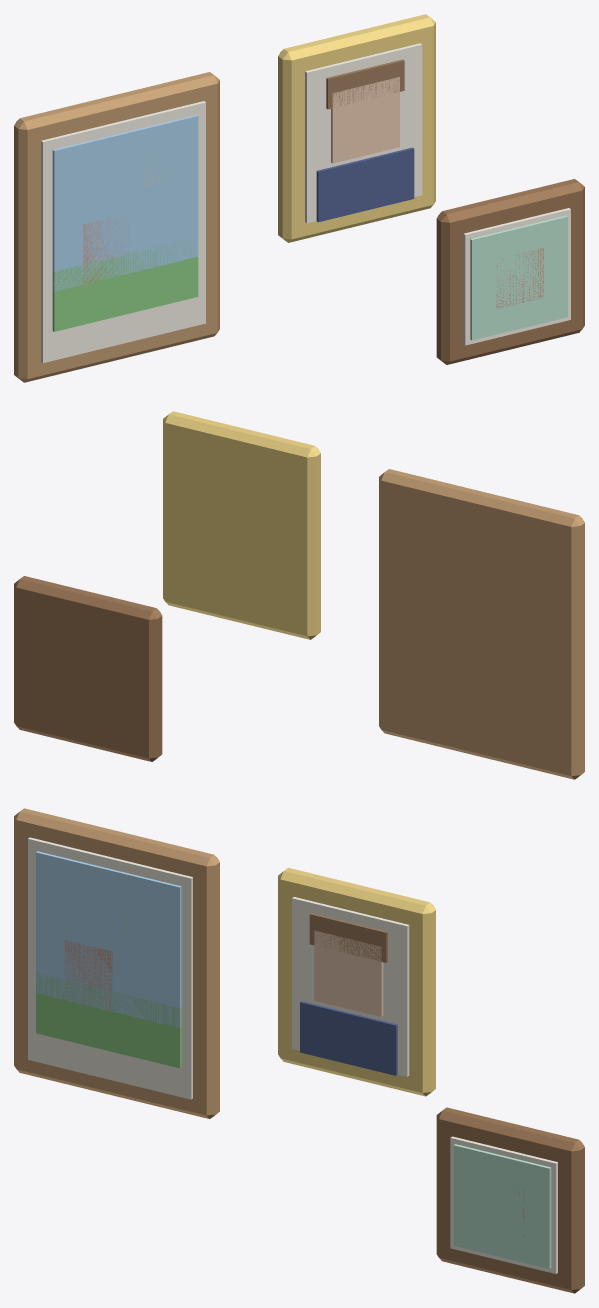
The model's file is prop_wall_frames_01.glb.
3 views of the same model, one above another, from view 1: azimuth 30°, elevation 25°; view 2: azimuth 150°, elevation 25°; view 3: azimuth 330°, elevation 25° (orthographic).
Visible parts, largest first — view 1: prop_wall_frames_01_body; view 2: prop_wall_frames_01_body; view 3: prop_wall_frames_01_body.
Part boxes in pixels (x1,y1,x2,y2): prop_wall_frames_01_body: (14,14,584,382); prop_wall_frames_01_body: (14,411,584,779); prop_wall_frames_01_body: (14,808,584,1293).
Size of the model in its own units: 1.18 by 0.7 by 0.053.
